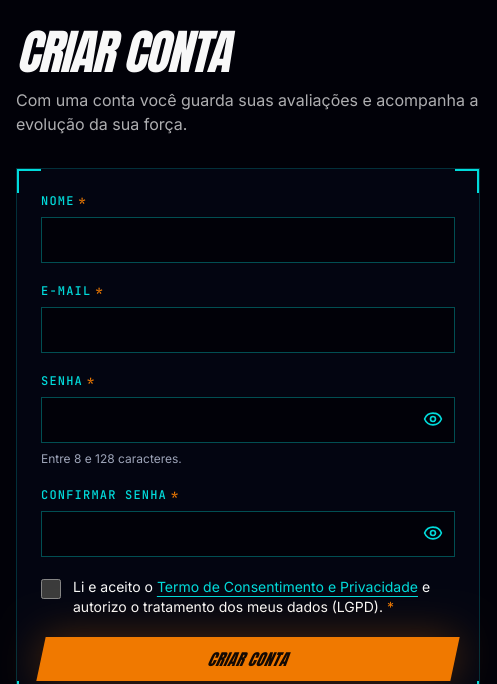
Test: CadastroPage › manda para o login com aviso se o login automático falhar
This screenshot has width=497, height=684.
Type "Ana Souza" into the field labelled "Nome*" at (248, 240), box [41,217,455,263]
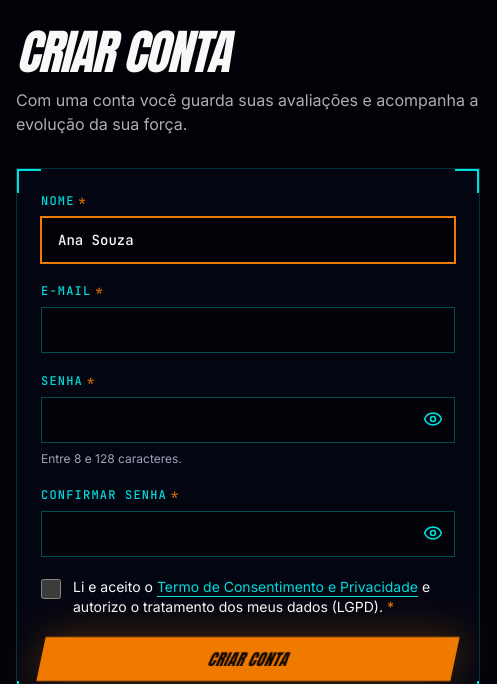
Type "ana@exemplo.com" into the field labelled "E-mail*" at (248, 330), box [41,307,455,353]
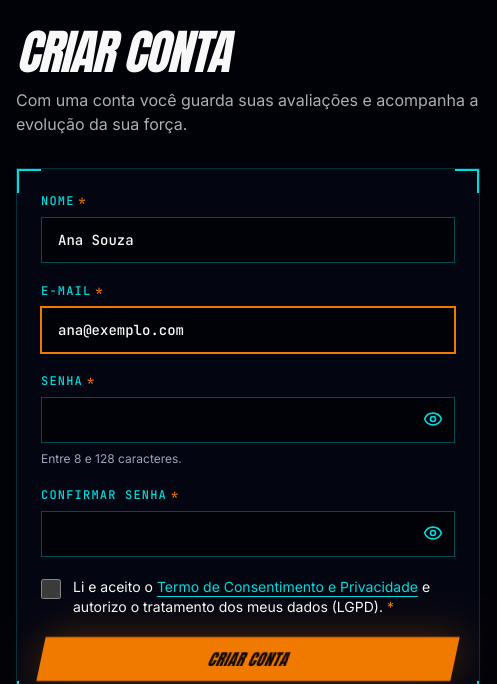
Type "senha-segura-123" into the password field labelled "Senha*" at (248, 420), box [41,397,455,443]
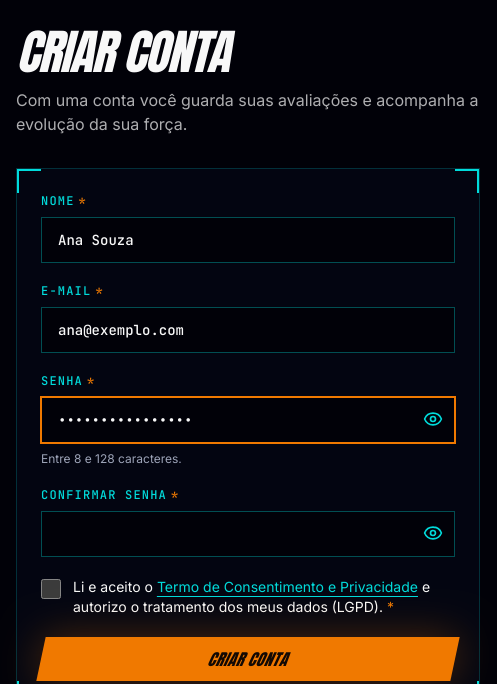
Type "senha-segura-123" into the password field labelled "Confirmar senha*" at (248, 534), box [41,511,455,557]
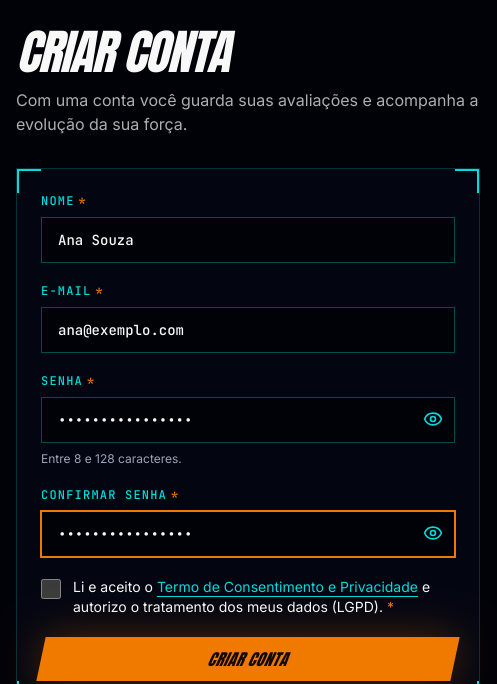
Click the checkbox labelled "Li e aceito" at (51, 589), box [41,579,61,599]
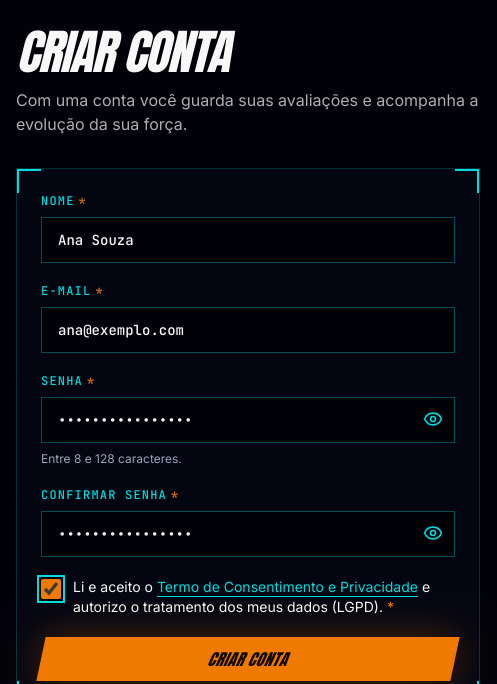
Click the button "Criar conta" at (248, 659), box [36,637,460,681]
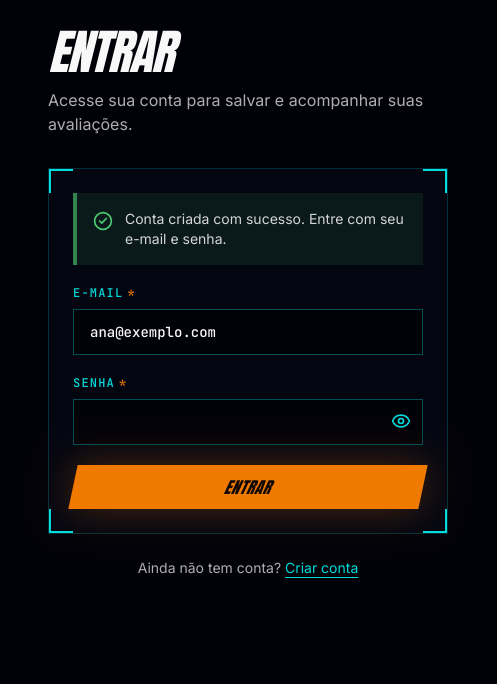
Result: the heading "Entrar" is shown at [48,16,172,88]
Result: the text "Conta criada com sucesso. Entre com seu e-mail e senha." is shown at [125,209,407,249]
Result: the field labelled "E-mail*" holds "ana@exemplo.com" at [73,309,423,355]
